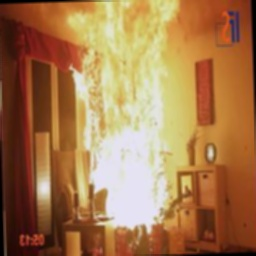fire: (52, 0, 201, 240)
